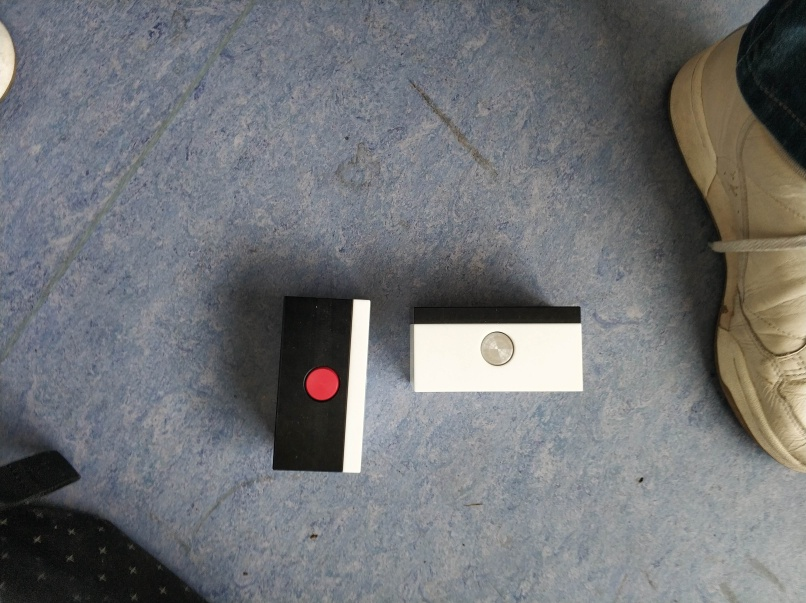black+white+silver: (408, 299, 588, 396)
white+black+red: (268, 293, 374, 475)
